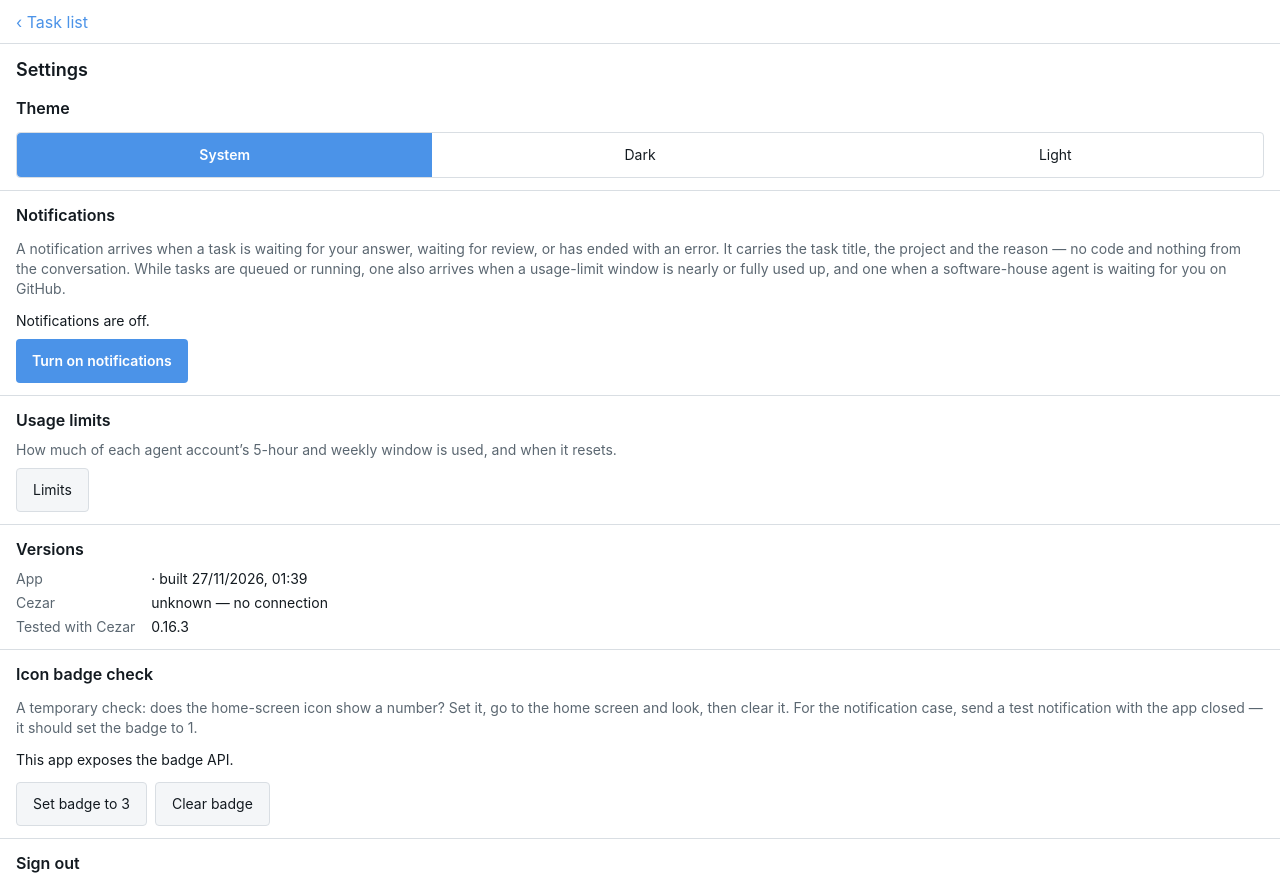
Settings → Notifications › a device the sidecar could not register does not look enabled
The width and height of the screenshot is (1280, 886).
Step 1. Click the button "Turn on notifications" → (102, 361), box [16, 339, 188, 383]
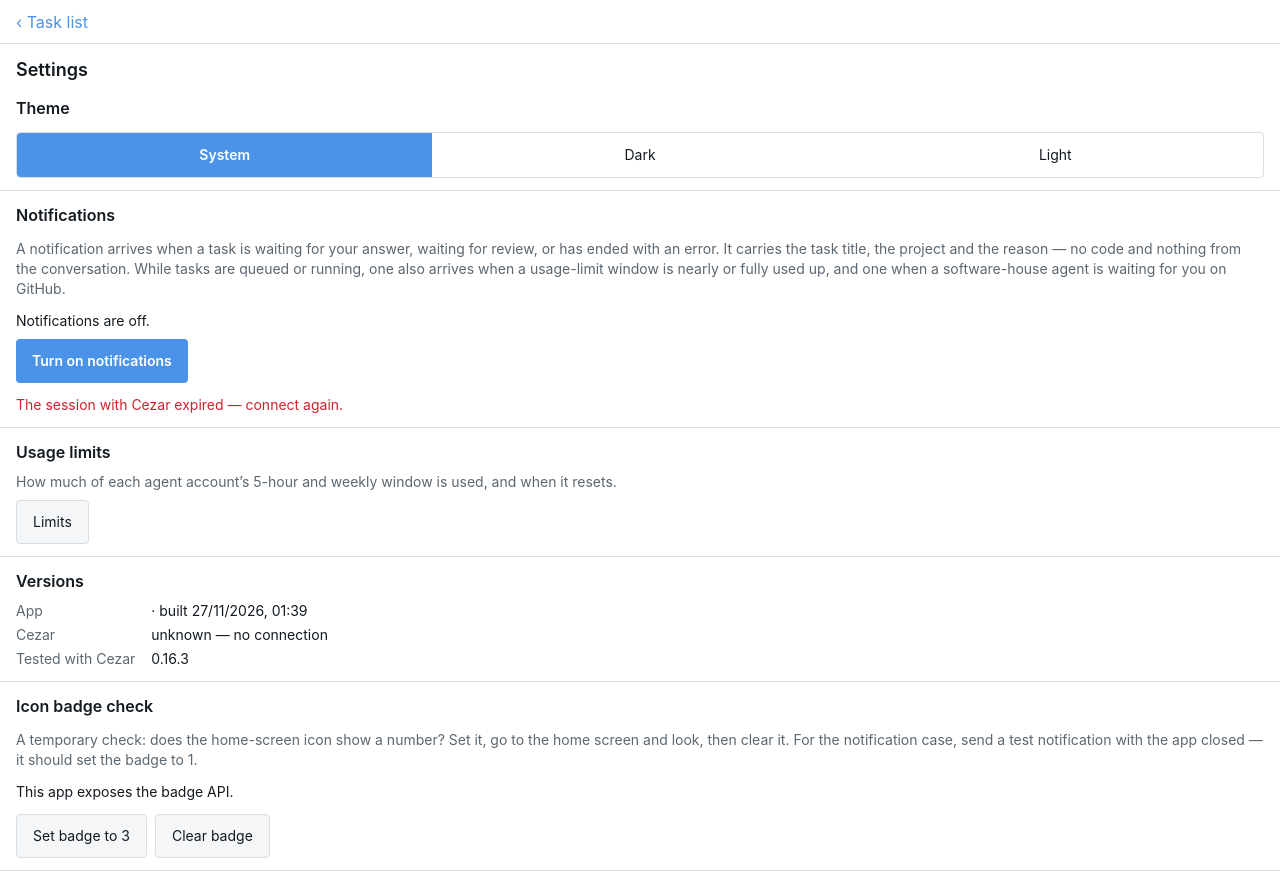
Now the message shows "The session with Cezar expired", box [16, 396, 343, 413]
